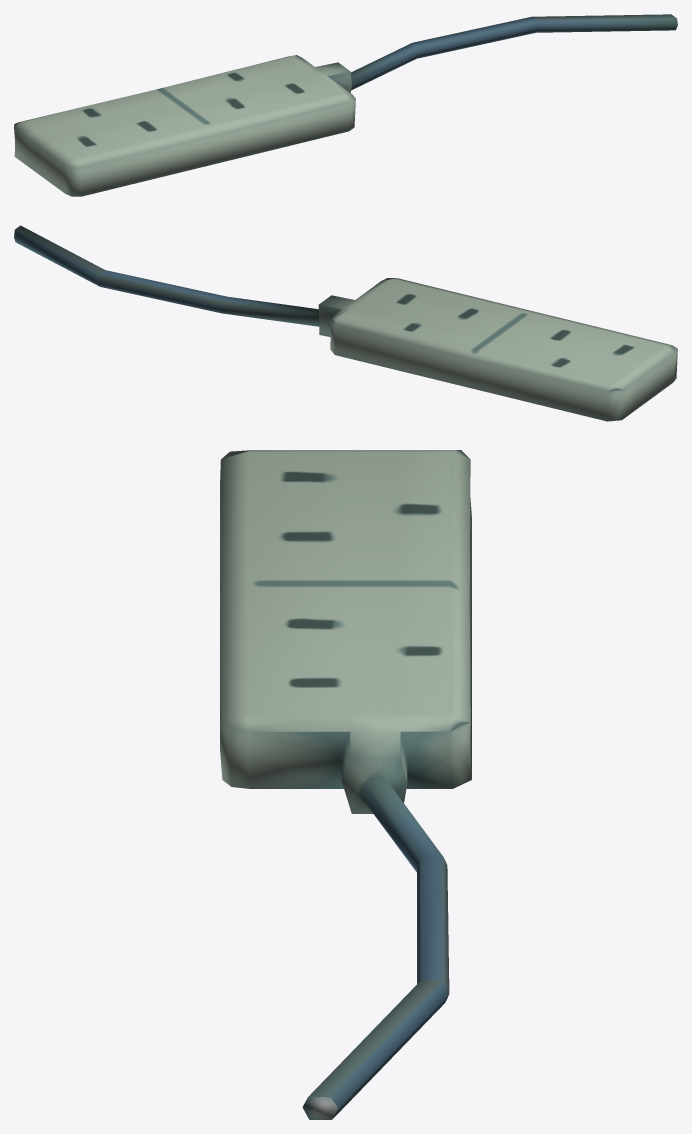
Rendered from electric.fbx.
3 views of the same model, one above another, from view 1: azimuth 30°, elevation 25°; view 2: azimuth 150°, elevation 25°; view 3: azimuth 270°, elevation 25° (orthographic). The views are drawn at different scales.
Visible parts, largest first — view 1: Cube; view 2: Cube; view 3: Cube.
Part boxes in pixels (box(x1,y1,x2,y2)): Cube: box(14, 14, 677, 196); Cube: box(14, 225, 677, 421); Cube: box(220, 450, 471, 1119).
Size of the model in its own units: 1073 by 57.48 by 187.
